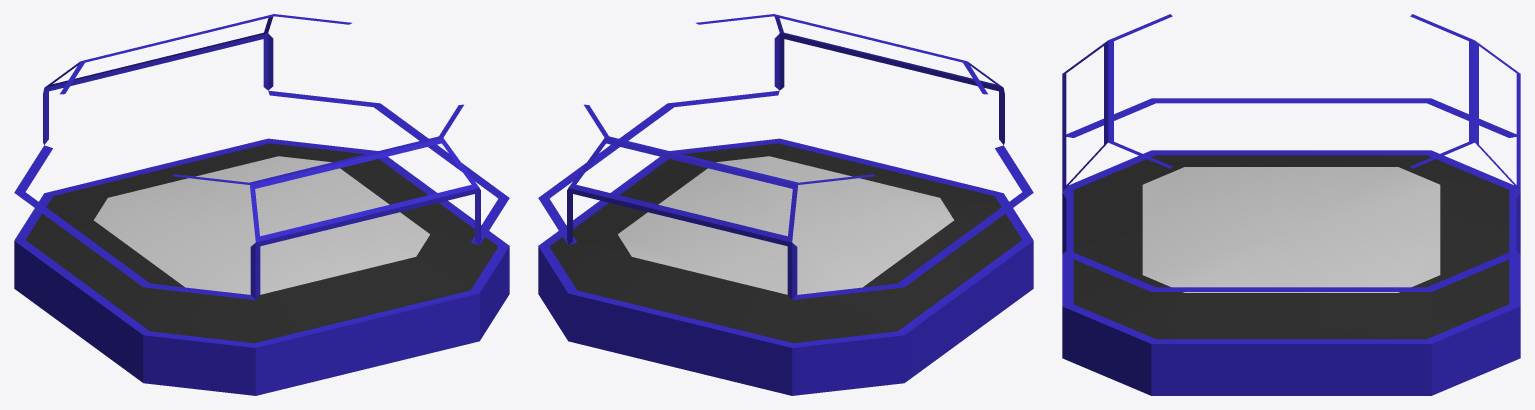
Rendered from switcher.fbx.
3 renders of one model, left to right at view 1: azimuth 30°, elevation 25°; view 2: azimuth 150°, elevation 25°; view 3: azimuth 270°, elevation 25°, orthographic. The views are drawn at different scales.
Parts seen in each view (by area): view 1: Krychle; view 2: Krychle; view 3: Krychle.
Boxes of the visible parts, box(x1,y1,x2,y2) form: Krychle: box(14, 14, 509, 395); Krychle: box(538, 14, 1033, 395); Krychle: box(1062, 14, 1520, 395).
Bounding box in the file's own units: 18 × 9 × 18.
